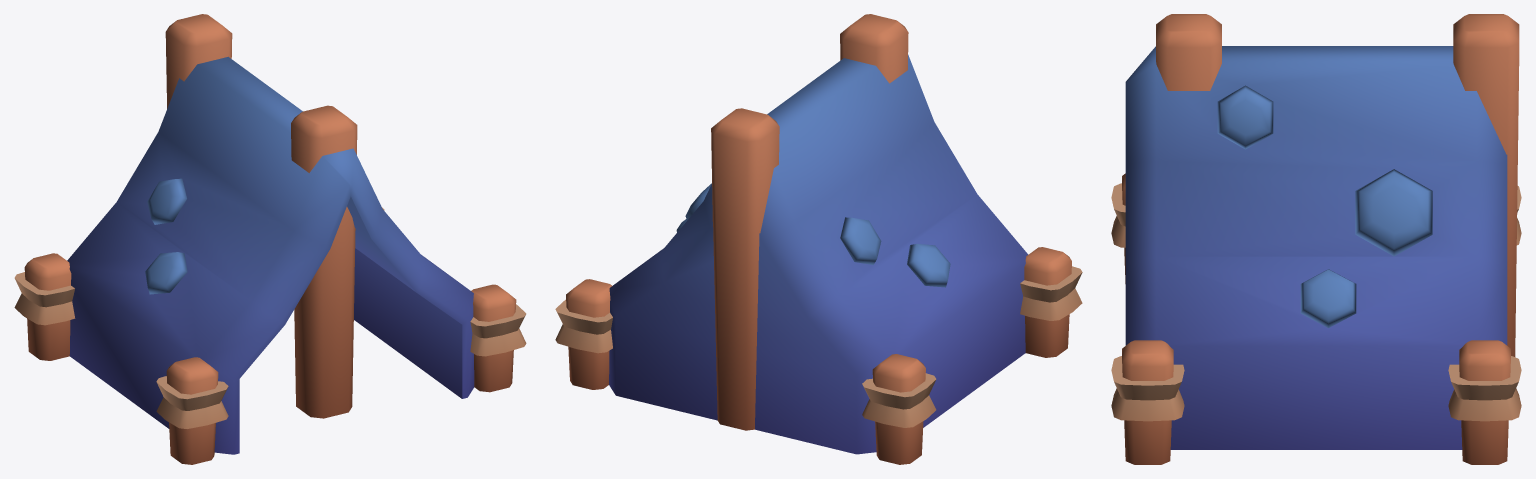
The model's file is tenda.glb.
3 renders of one model, left to right at view 1: azimuth 30°, elevation 25°; view 2: azimuth 150°, elevation 25°; view 3: azimuth 270°, elevation 25°, orthographic. The views are drawn at different scales.
Parts seen in each view (by area): view 1: modelo; view 2: modelo; view 3: modelo.
Boxes of the visible parts, bbox=[...] form: modelo: bbox=[14, 14, 526, 464]; modelo: bbox=[555, 14, 1082, 464]; modelo: bbox=[1111, 14, 1521, 464].
Bounding box in the file's own units: 1.75 × 1.39 × 1.49.
